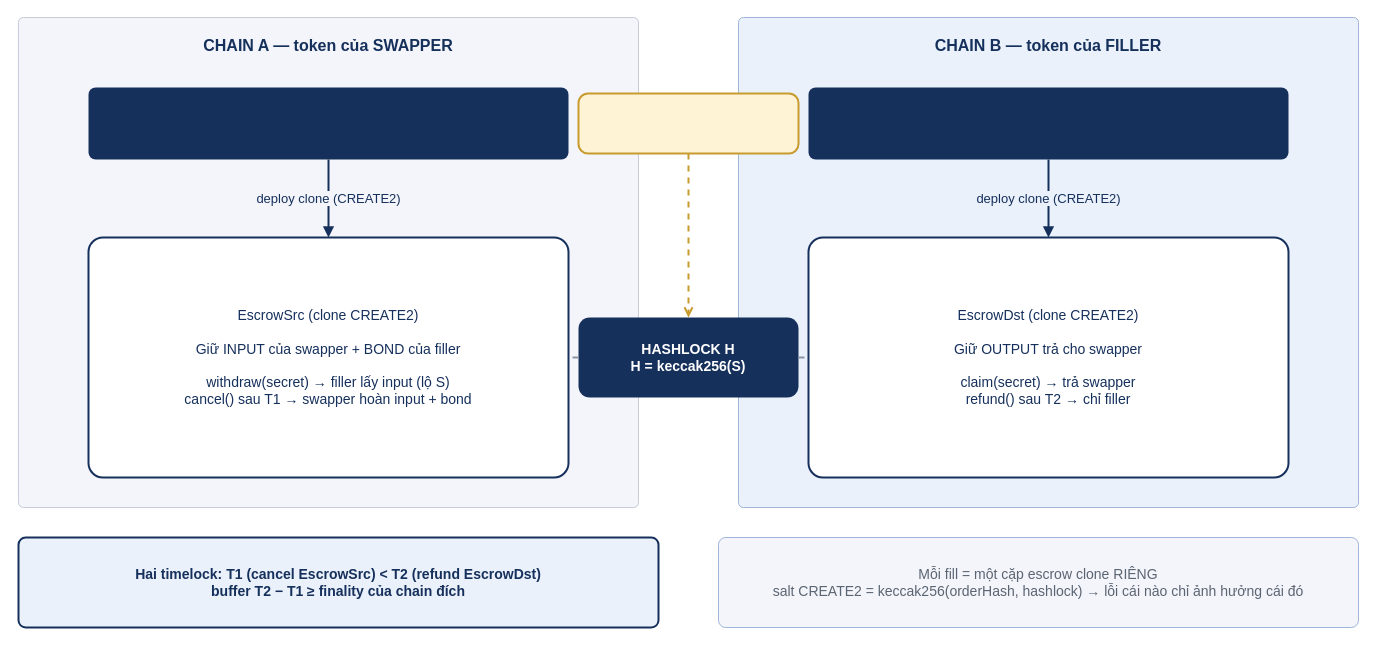
The diagram is 1376 pixels wide and 646 high, and some of its shapes have lost their labels. Each missing label, with the centre of its shape:
"EscrowDstFactory (Chain B) deploy()" belongs at pixel 1048 123.
"EscrowSrcFactory (Chain A) fillSlot() · restoreRemaining()" belongs at pixel 328 123.
"FILLER giữ secret S" belongs at pixel 688 123.
